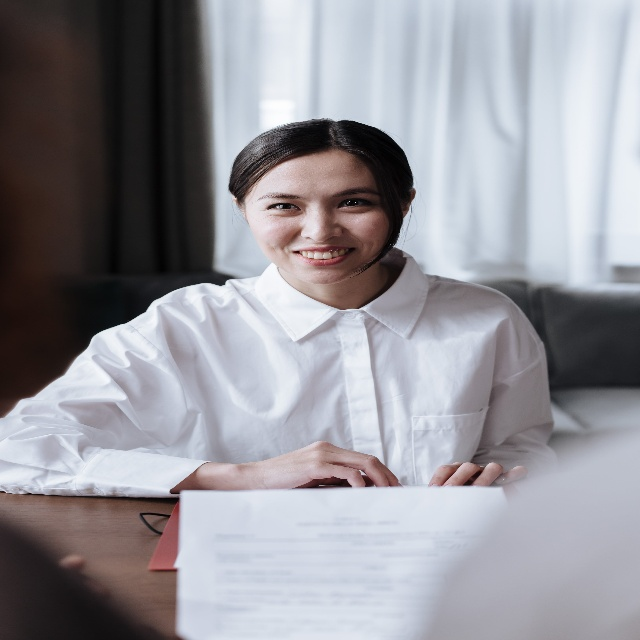Sin_guantes: (254, 443, 403, 493), (426, 452, 530, 490)
